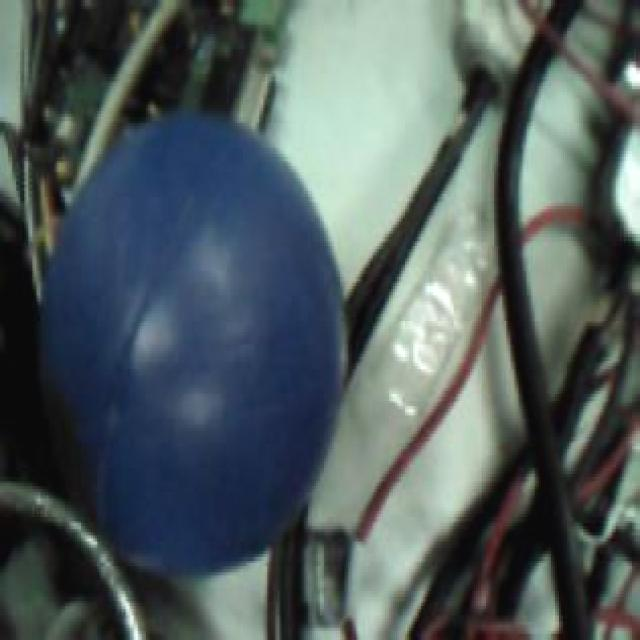BallPurple: (39, 112, 342, 583)
